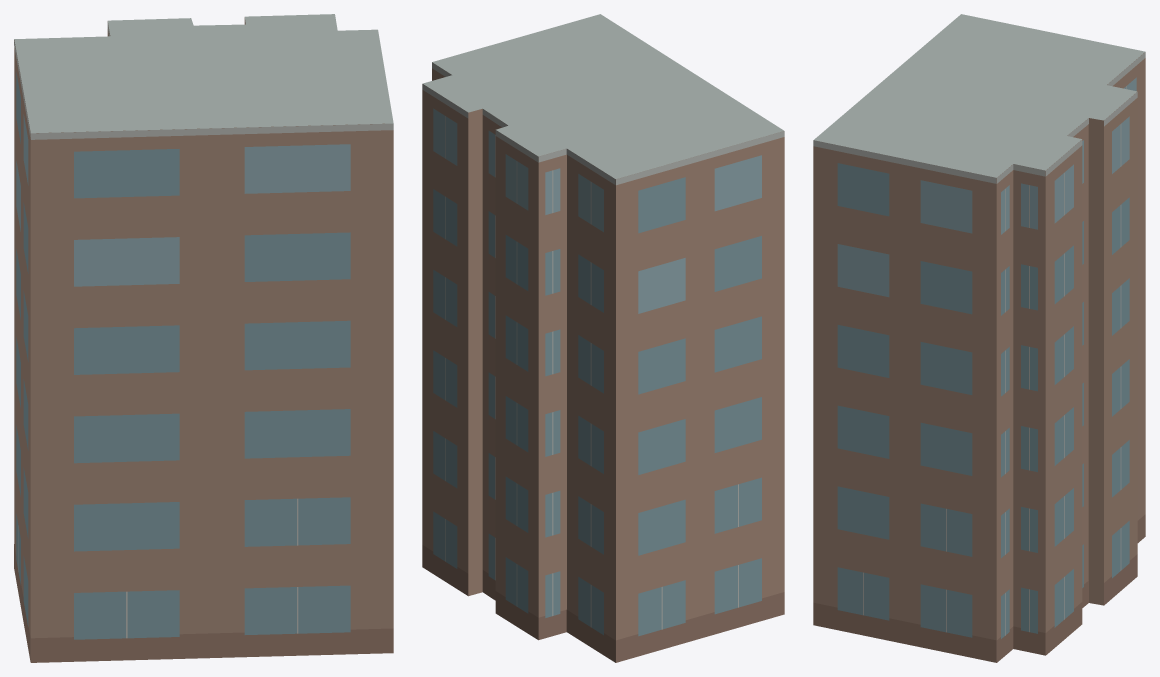
File: survey-upis-32532338.glb
3 views of the same model, side by side, from view 1: azimuth 30°, elevation 25°; view 2: azimuth 150°, elevation 25°; view 3: azimuth 270°, elevation 25° (orthographic). The views are drawn at different scales.
Parts seen in each view (by area): view 1: survey-upis-32532338.tmp; view 2: survey-upis-32532338.tmp; view 3: survey-upis-32532338.tmp.
Boxes of the visible parts, <box> form: survey-upis-32532338.tmp: <box>14,14,393,662</box>; survey-upis-32532338.tmp: <box>422,14,784,662</box>; survey-upis-32532338.tmp: <box>813,14,1145,662</box>.
Bounding box in the file's own units: 14.07 × 19.4 × 12.05.
